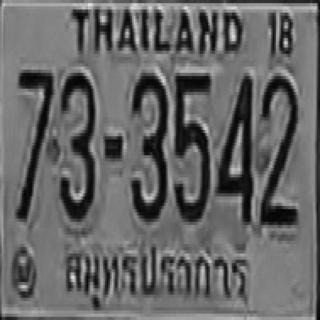N02: (258, 71, 297, 223)
N03: (58, 70, 95, 219), (130, 70, 166, 219)
N04: (217, 73, 252, 222)
N05: (173, 70, 210, 219)
N07: (15, 66, 52, 218)
P57: (61, 236, 253, 312)
